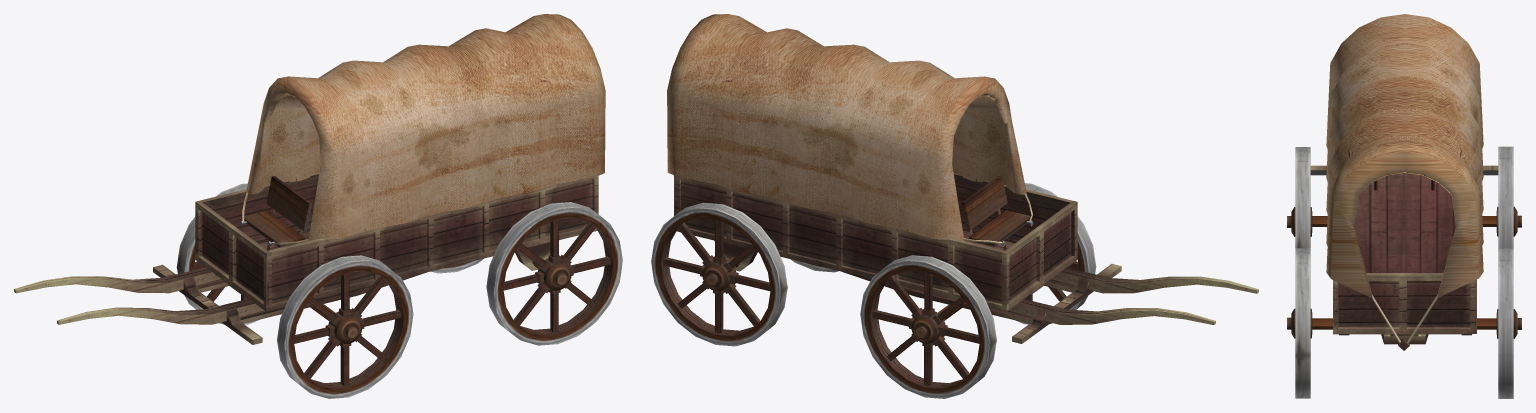
File: wild_western_wagon.glb
3 views of the same model, side by side, from view 1: azimuth 30°, elevation 25°; view 2: azimuth 150°, elevation 25°; view 3: azimuth 270°, elevation 25° (orthographic).
Parts seen in each view (by area): view 1: group8; view 2: group8; view 3: group8.
Part boxes in pixels (<box>): group8: <box>14,14,622,398</box>; group8: <box>651,14,1258,398</box>; group8: <box>1287,14,1521,398</box>.
Size of the model in its own units: 6.96 by 3.41 by 2.6.
1 material, 1 textured.
